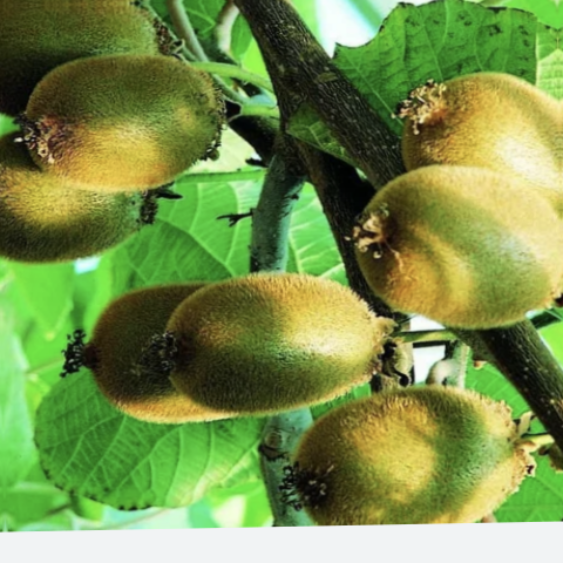kiwi: (258, 363, 530, 563), (151, 248, 402, 438), (353, 160, 563, 367), (24, 35, 229, 206)
